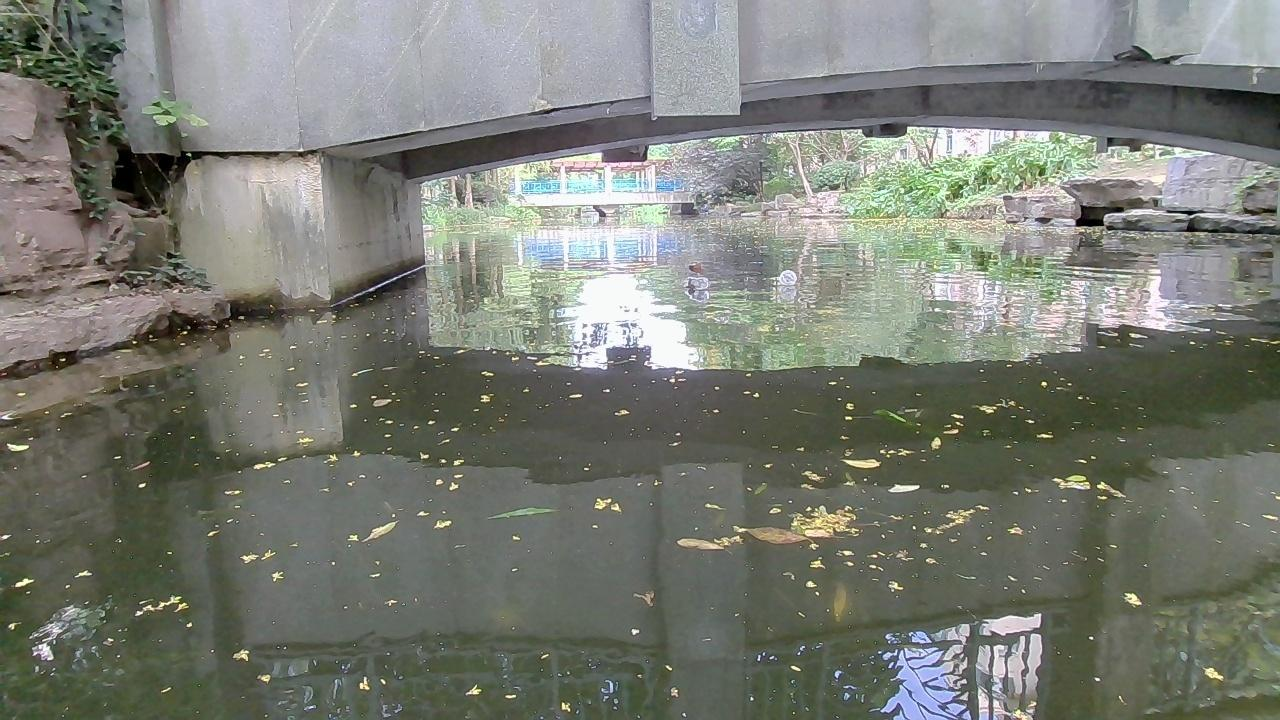bottle: (773, 267, 798, 286), (685, 276, 708, 288), (687, 259, 698, 268)
